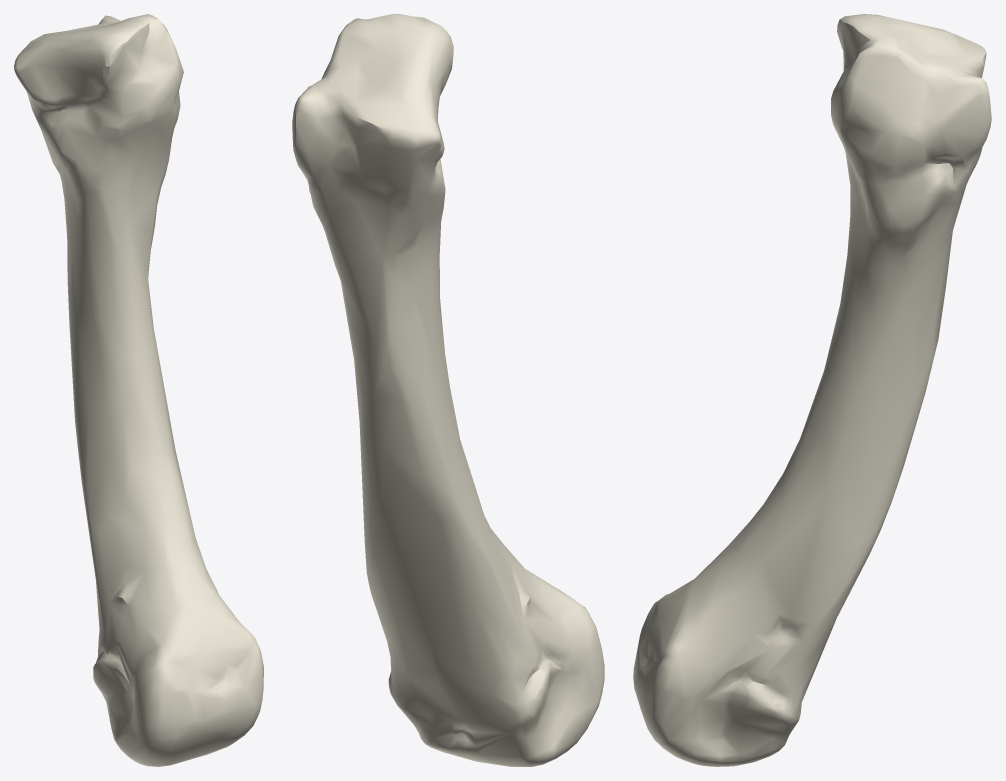
Rendered from fma24471.glb.
The picture shows the model from 3 angles, left to right: view 1: azimuth 30°, elevation 25°; view 2: azimuth 150°, elevation 25°; view 3: azimuth 270°, elevation 25°; orthographic projection. The views are drawn at different scales.
Parts seen in each view (by area): view 1: FMA24471; view 2: FMA24471; view 3: FMA24471.
Boxes of the visible parts, bbox=[...] form: FMA24471: bbox=[14, 14, 263, 766]; FMA24471: bbox=[292, 14, 604, 766]; FMA24471: bbox=[633, 14, 991, 766].
Bounding box in the file's own units: 0.0127 × 0.0601 × 0.0263.
